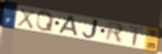A: (57, 15, 79, 38)
J: (81, 18, 101, 41)
Q: (36, 11, 55, 33)
R: (105, 21, 126, 45)
T: (129, 25, 144, 47)
X: (16, 6, 37, 31)
